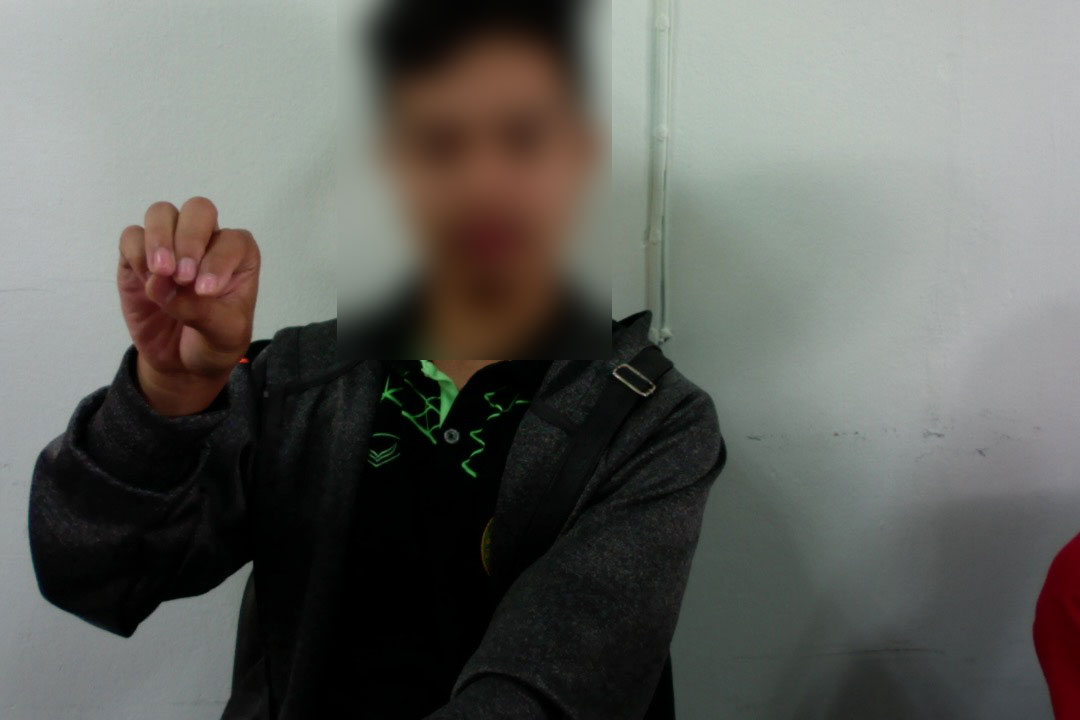mor: (113, 182, 266, 393)
